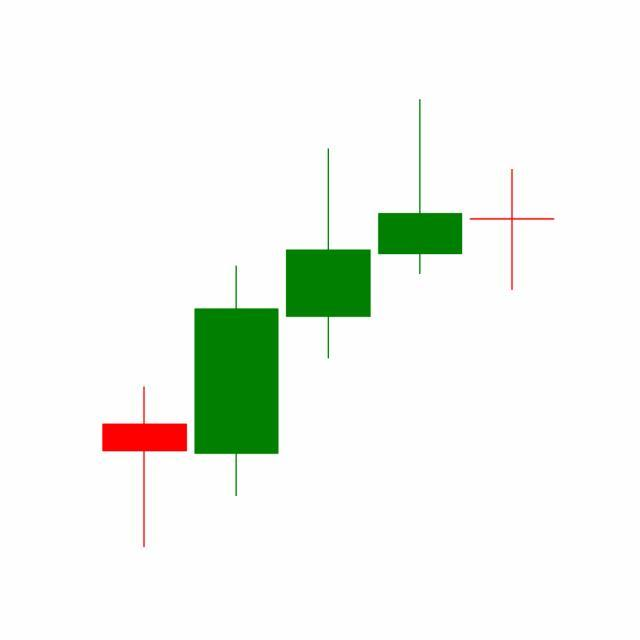Advance Block: (190, 99, 467, 501)
